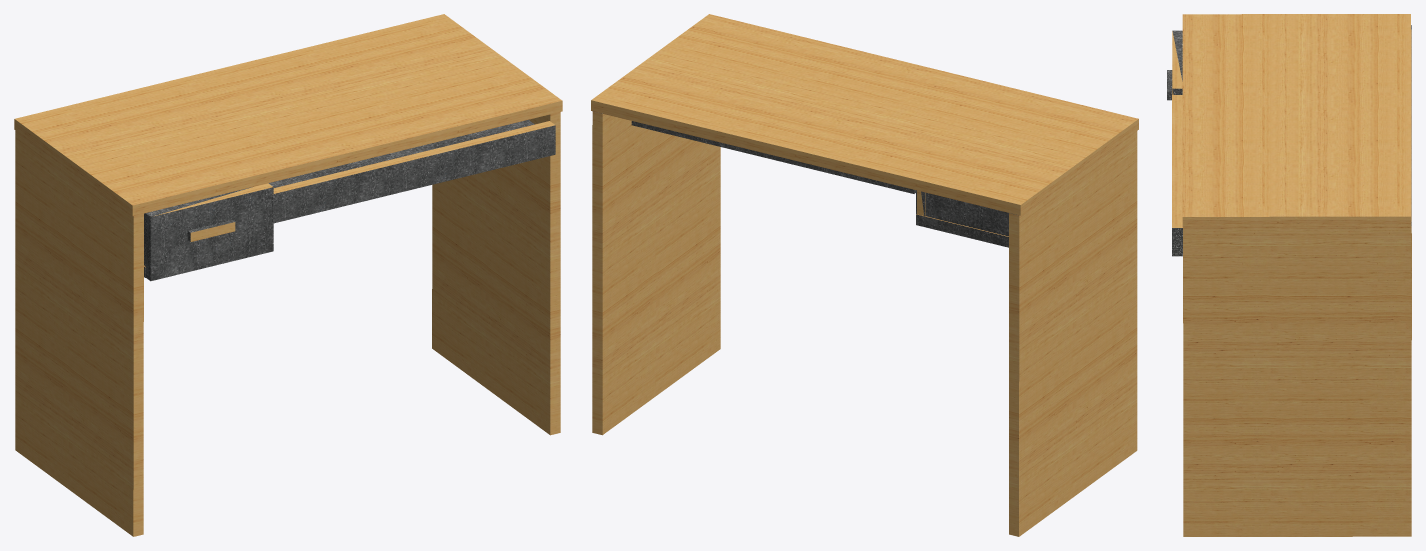
Rendered from desk3.fbx.
3 renders of one model, left to right at view 1: azimuth 30°, elevation 25°; view 2: azimuth 150°, elevation 25°; view 3: azimuth 270°, elevation 25°, orthographic. The views are drawn at different scales.
Visible parts, largest first — view 1: Object005, Object004, Object002, Object001, Table desk N210820; view 2: Object005, Object004, Table desk N210820, Object003; view 3: Object005, Object004, Table desk N210820.
Part boxes in pixels (left/top/right/bottom): Object005: left=14, top=14, right=562, bottom=536; Object004: left=15, top=14, right=554, bottom=267; Object002: left=273, top=125, right=555, bottom=223; Object001: left=150, top=187, right=273, bottom=280; Table desk N210820: left=144, top=119, right=534, bottom=280; Object005: left=591, top=14, right=1138, bottom=536; Object004: left=592, top=100, right=1138, bottom=215; Table desk N210820: left=594, top=111, right=1018, bottom=247; Object003: left=916, top=190, right=1008, bottom=236; Object005: left=1182, top=14, right=1411, bottom=536; Object004: left=1172, top=14, right=1410, bottom=227; Table desk N210820: left=1167, top=25, right=1411, bottom=256.
Size of the model in its own units: 26.67 by 19.7 by 13.62.
2 materials, 2 textured.
